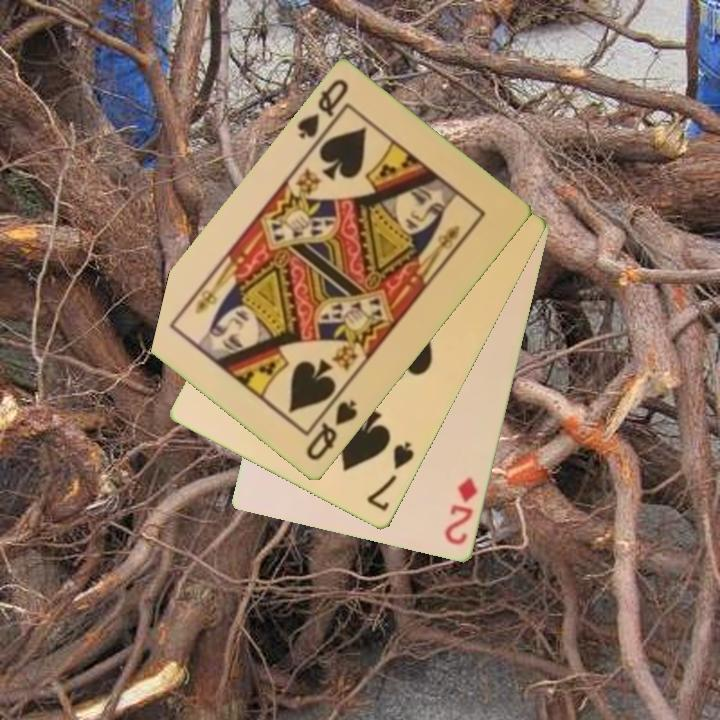2d: (441, 474, 481, 549)
7s: (363, 439, 417, 515)
Qs: (293, 76, 352, 152), (302, 396, 361, 465)
